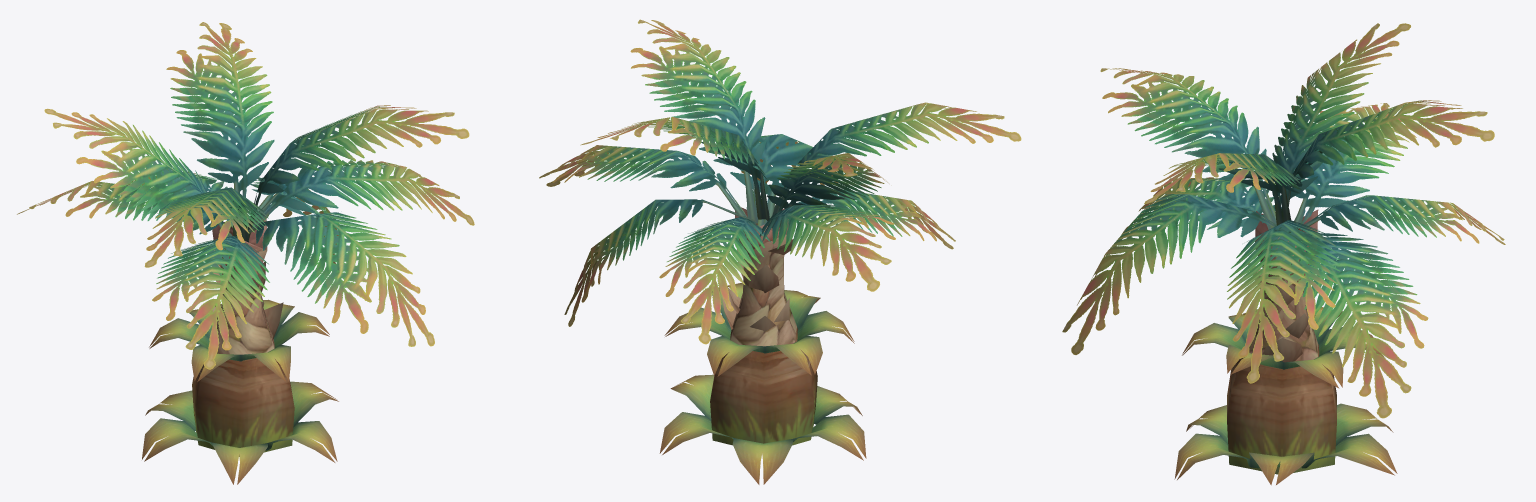
File: Map_05_tree07.FBX
3 views of the same model, side by side, from view 1: azimuth 30°, elevation 25°; view 2: azimuth 150°, elevation 25°; view 3: azimuth 270°, elevation 25° (orthographic). The views are drawn at different scales.
Visible parts, largest first — view 1: Map_05_tree07a, Map_05_tree07b; view 2: Map_05_tree07a, Map_05_tree07b; view 3: Map_05_tree07a, Map_05_tree07b.
Boxes of the visible parts, x1,y1,x2,y2 form: Map_05_tree07a: (17, 22, 474, 369); Map_05_tree07b: (142, 219, 338, 484); Map_05_tree07a: (539, 19, 1021, 344); Map_05_tree07b: (659, 207, 866, 484); Map_05_tree07a: (1062, 23, 1505, 418); Map_05_tree07b: (1174, 209, 1397, 485).
Bounding box in the file's own units: 500 × 390 × 441.
